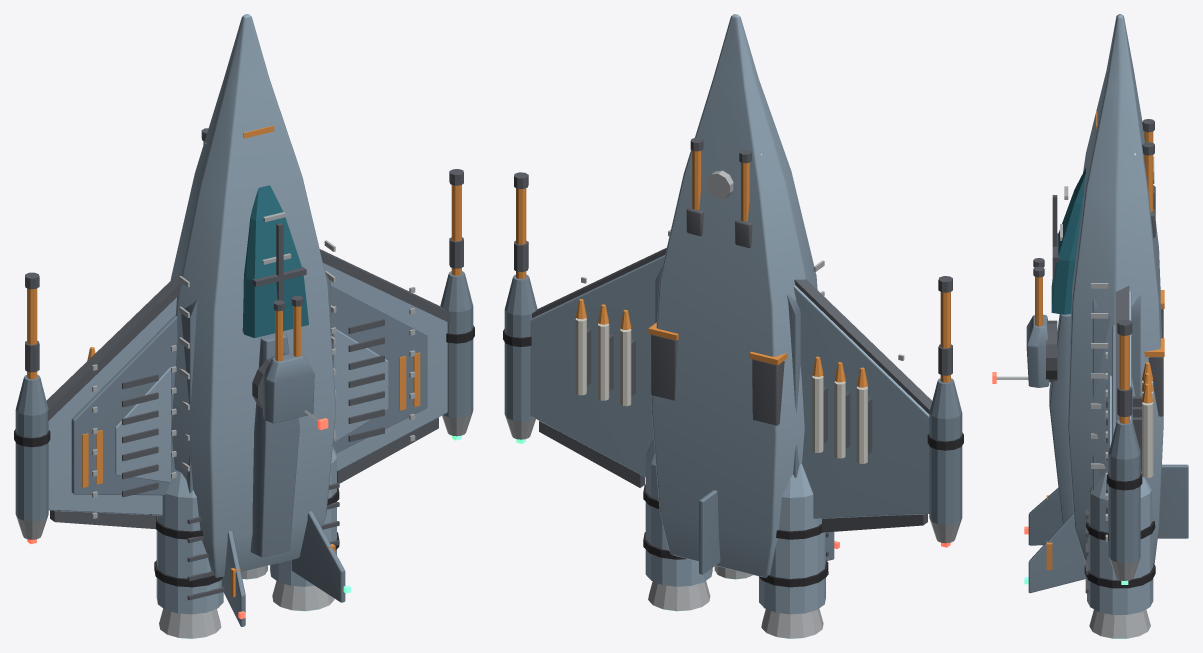
The model's file is patrol.glb.
The picture shows the model from 3 angles, left to right: view 1: azimuth 30°, elevation 25°; view 2: azimuth 150°, elevation 25°; view 3: azimuth 270°, elevation 25°; orthographic projection. The views are drawn at different scales.
Parts seen in each view (by area): view 1: Fuselage, Wing armour, Dorsal spine, Wing, Wing armour.001, Canopy, Wing.001, Nacelle, Wing armour cap, Wing armour cap.001, Cannon pod, Turret housing (+15 smaller); view 2: Fuselage, Wing, Wing.001, Nacelle, Cannon pod, Nacelle.001, Cannon pod.001, Leading edge, Intake, Intake.001, Ventral fin, Engine bell (+15 smaller); view 3: Fuselage, Nacelle.001, Cannon pod.001, Dorsal spine, Tail fin.001, Canopy, Ventral fin, Cheek armour.001, Engine bell.001, Tail fin, Turret housing, Pod nose.001 (+16 smaller).
Boxes of the visible parts, bbox=[...] form: Fuselage: bbox=[170, 14, 335, 577]; Wing armour: bbox=[71, 315, 177, 495]; Dorsal spine: bbox=[250, 333, 299, 557]; Wing: bbox=[48, 297, 176, 515]; Wing armour.001: bbox=[331, 284, 427, 453]; Canopy: bbox=[242, 185, 308, 338]; Wing.001: bbox=[323, 263, 447, 471]; Nacelle: bbox=[156, 494, 223, 614]; Wing armour cap: bbox=[115, 367, 171, 482]; Wing armour cap.001: bbox=[332, 327, 388, 442]; Cannon pod: bbox=[15, 409, 48, 521]; Turret housing: bbox=[263, 353, 314, 423]; Fuselage: bbox=[651, 14, 817, 577]; Wing: bbox=[793, 285, 929, 518]; Wing.001: bbox=[530, 255, 664, 477]; Nacelle: bbox=[759, 495, 825, 614]; Cannon pod: bbox=[929, 412, 962, 524]; Nacelle.001: bbox=[645, 458, 712, 586]; Cannon pod.001: bbox=[504, 309, 537, 421]; Leading edge: bbox=[794, 279, 932, 413]; Intake: bbox=[752, 359, 784, 425]; Intake.001: bbox=[651, 334, 677, 400]; Ventral fin: bbox=[699, 490, 720, 574]; Engine bell: bbox=[761, 608, 823, 638]; Fuselage: bbox=[1067, 14, 1163, 563]; Nacelle.001: bbox=[1087, 490, 1153, 614]; Cannon pod.001: bbox=[1108, 453, 1140, 563]; Dorsal spine: bbox=[1049, 313, 1073, 523]; Tail fin.001: bbox=[1028, 513, 1085, 593]; Canopy: bbox=[1051, 168, 1085, 314]; Ventral fin: bbox=[1157, 464, 1188, 538]; Cheek armour.001: bbox=[1092, 295, 1140, 489]; Engine bell.001: bbox=[1089, 609, 1150, 638]; Tail fin: bbox=[1028, 487, 1062, 545]; Turret housing: bbox=[1026, 314, 1049, 387]; Pod nose.001: bbox=[1109, 419, 1140, 459].
Bounding box in the file's own units: 4.51 × 5.66 × 1.72.
